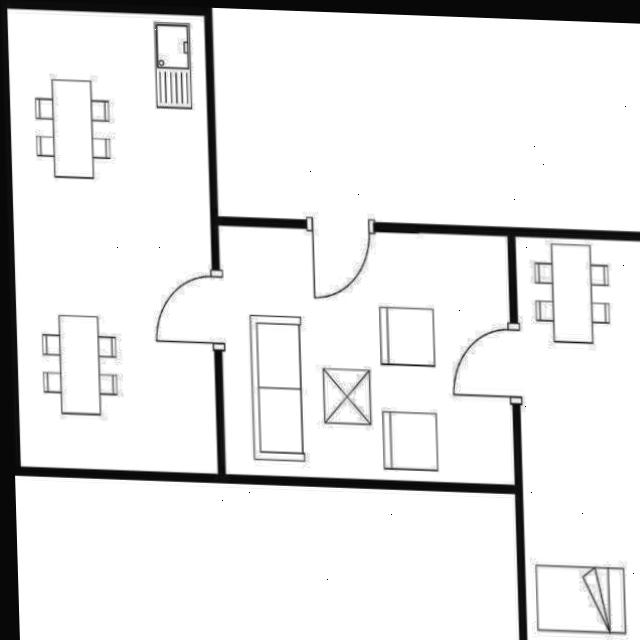room: (6, 4, 216, 480), (209, 225, 523, 485), (515, 236, 640, 640)
